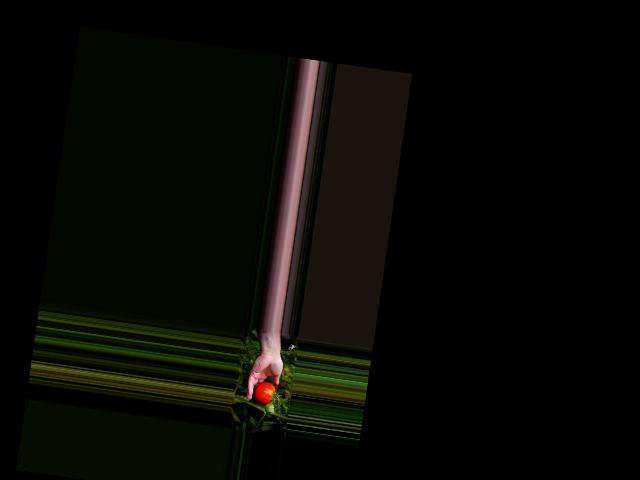tomato: (253, 380, 276, 406)
